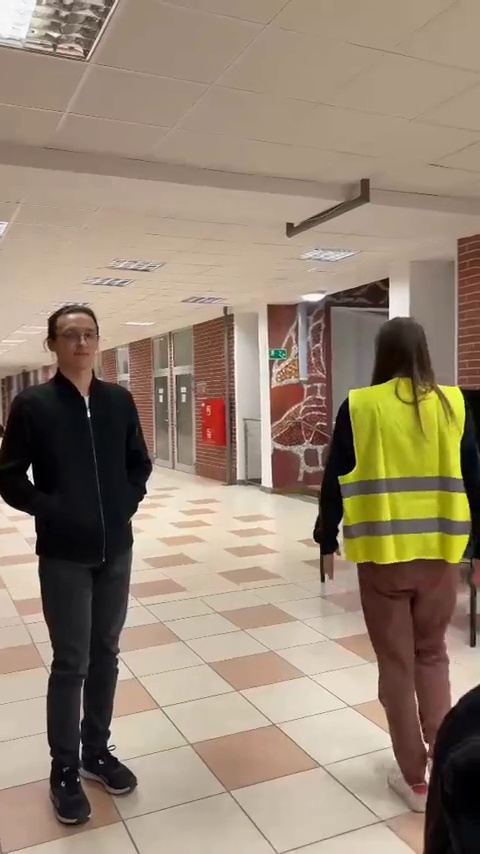no vest: (6, 304, 160, 818)
vest: (311, 322, 480, 807)
